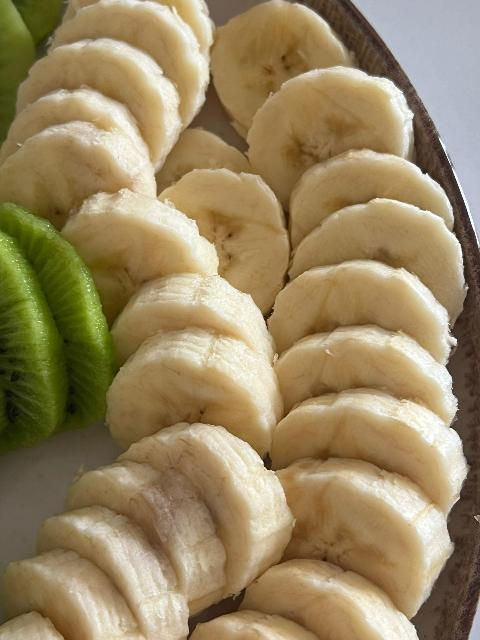Organik: (0, 475, 242, 640), (111, 347, 289, 497), (0, 197, 119, 414), (258, 464, 466, 578), (84, 227, 269, 348), (28, 2, 216, 102), (202, 564, 411, 640), (266, 73, 397, 186), (175, 161, 280, 298), (0, 225, 69, 428), (0, 122, 156, 209), (270, 400, 456, 470), (277, 333, 448, 403), (281, 264, 441, 338), (311, 195, 444, 281), (222, 12, 336, 106), (0, 81, 155, 148), (294, 162, 434, 231), (2, 0, 47, 122)
